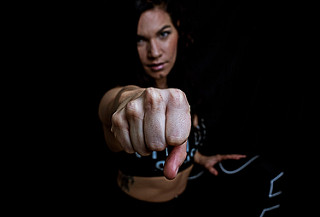fist: (113, 90, 193, 176)
